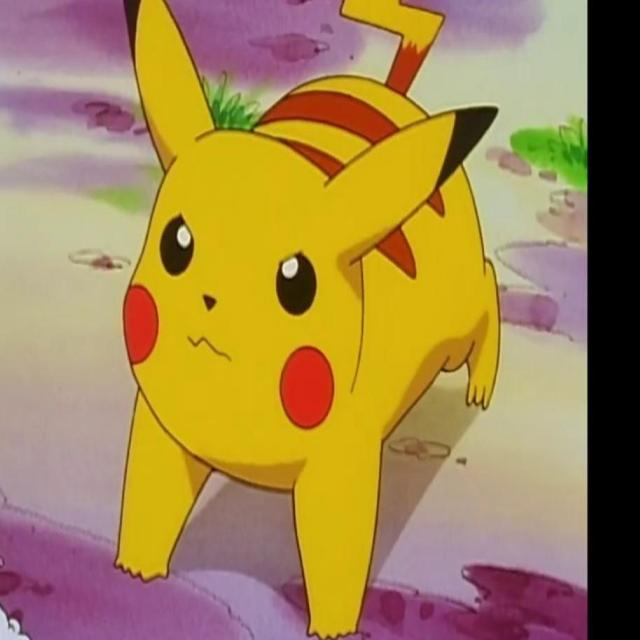pikachu: (110, 0, 503, 638)
